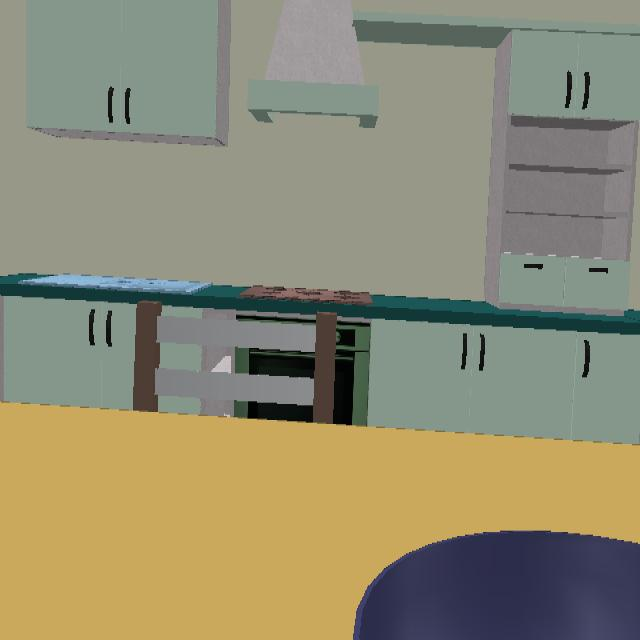cabinet: (353, 12, 640, 316), (366, 320, 640, 444), (24, 0, 231, 145), (0, 296, 137, 411), (160, 343, 235, 373), (158, 396, 234, 417), (161, 305, 237, 320)
chair: (134, 301, 337, 423)
countertop: (0, 272, 640, 335)
oven: (334, 320, 371, 427), (234, 348, 315, 379), (234, 401, 314, 423), (236, 311, 317, 323)
stove: (240, 287, 373, 305)
table: (0, 403, 640, 640)
